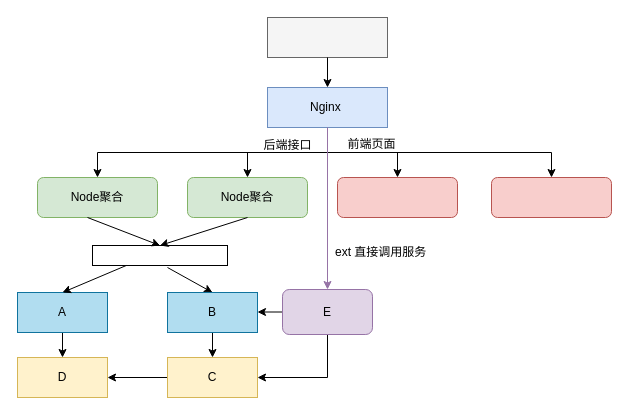
Image size: 629x415. Some labels were removed from this diagram. The shapes that lost their labels are listed below. From the top down, each one's centre as x and y in pixels, then its label:
[327,37]: Client
[397,197]: webcontent1
[551,197]: webcontent2
[160,255]: GateWay
